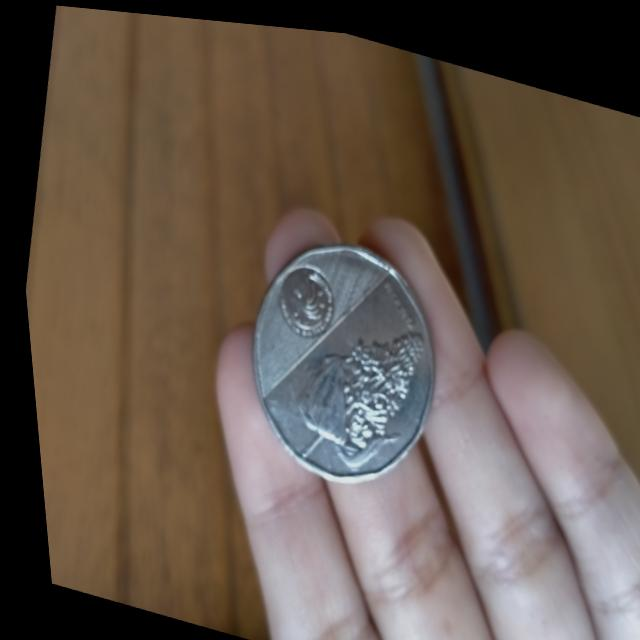10_New_Back: (266, 289, 431, 482)
